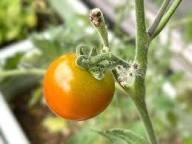Mengkal: (40, 46, 115, 120)
